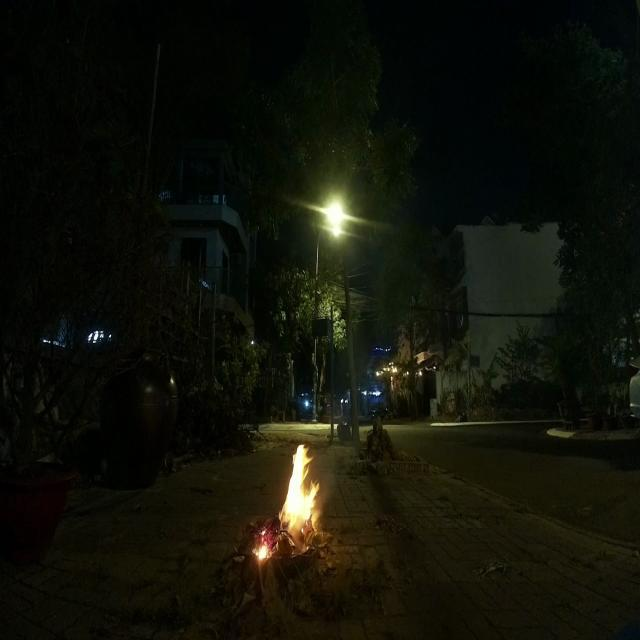Fire: (248, 436, 332, 566)
